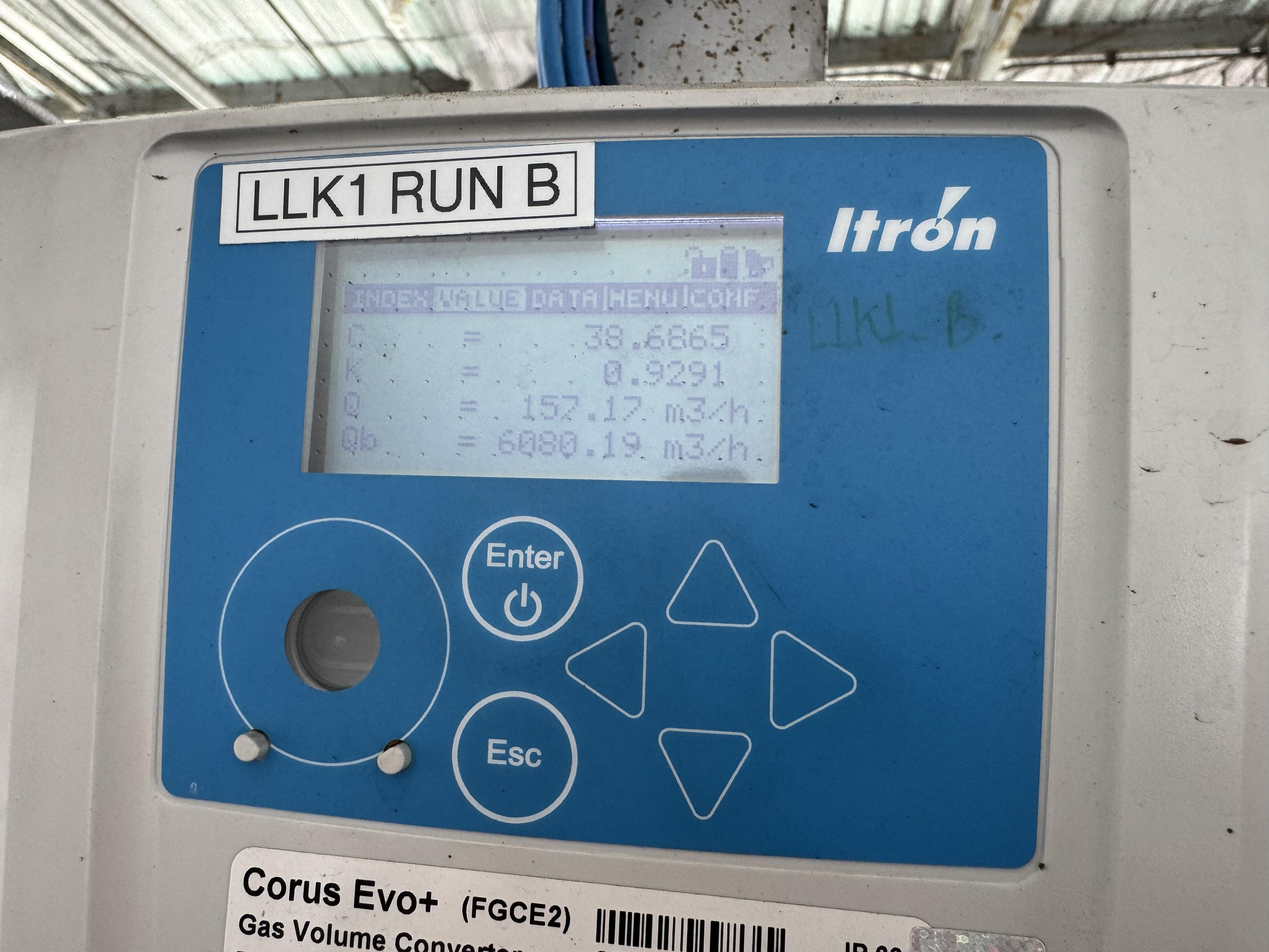digital_screen: (302, 206, 783, 483)
